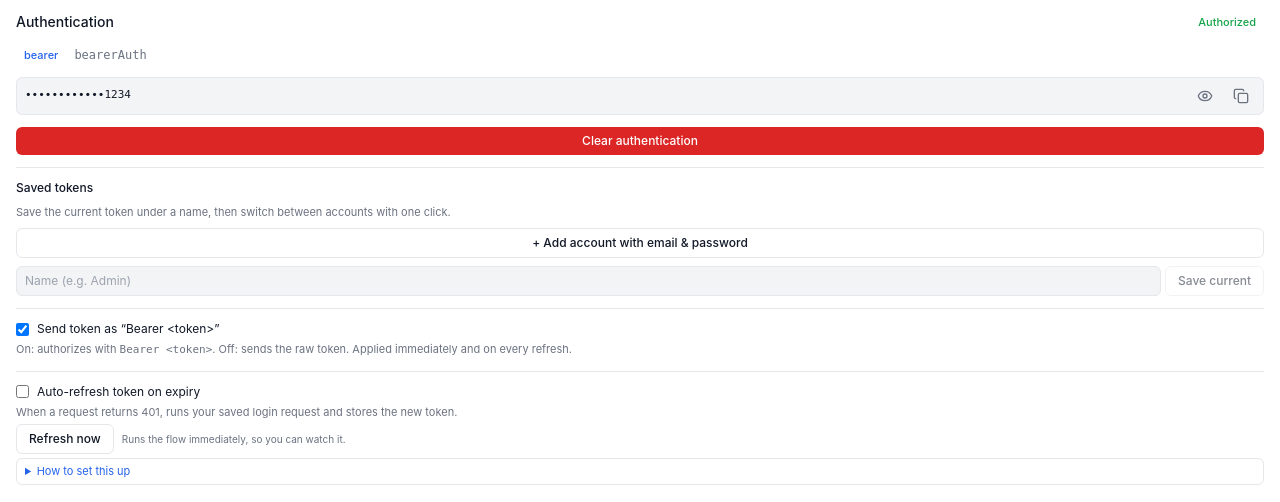
Test: AuthPanel › copies the real token even while the display is masked
Click the button named "Copy token" at (1241, 96), box [1227, 82, 1255, 110]
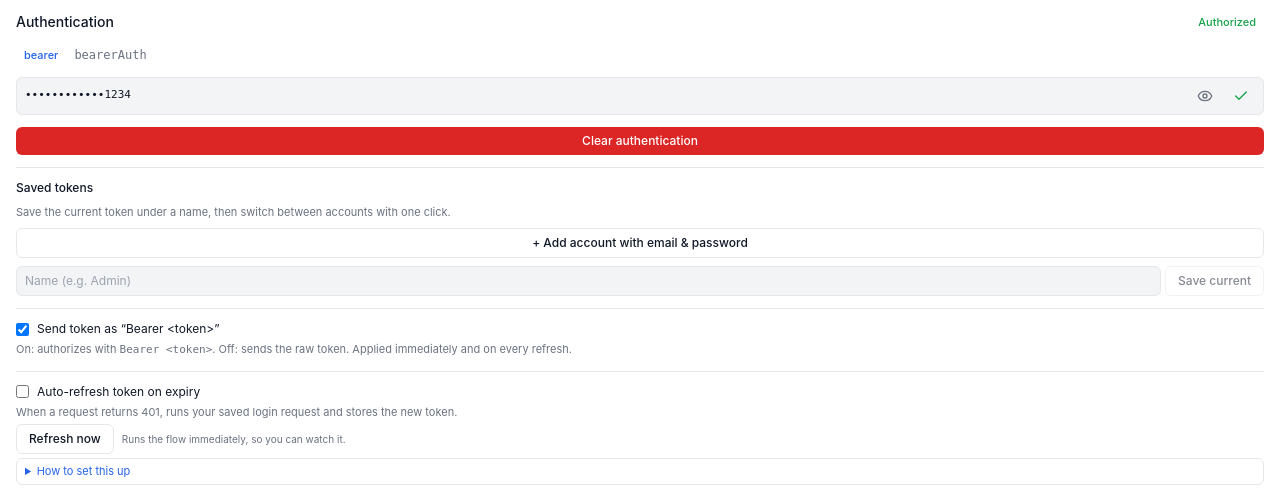
Result: the button named "Copied" is shown at [1227, 82, 1255, 110]
